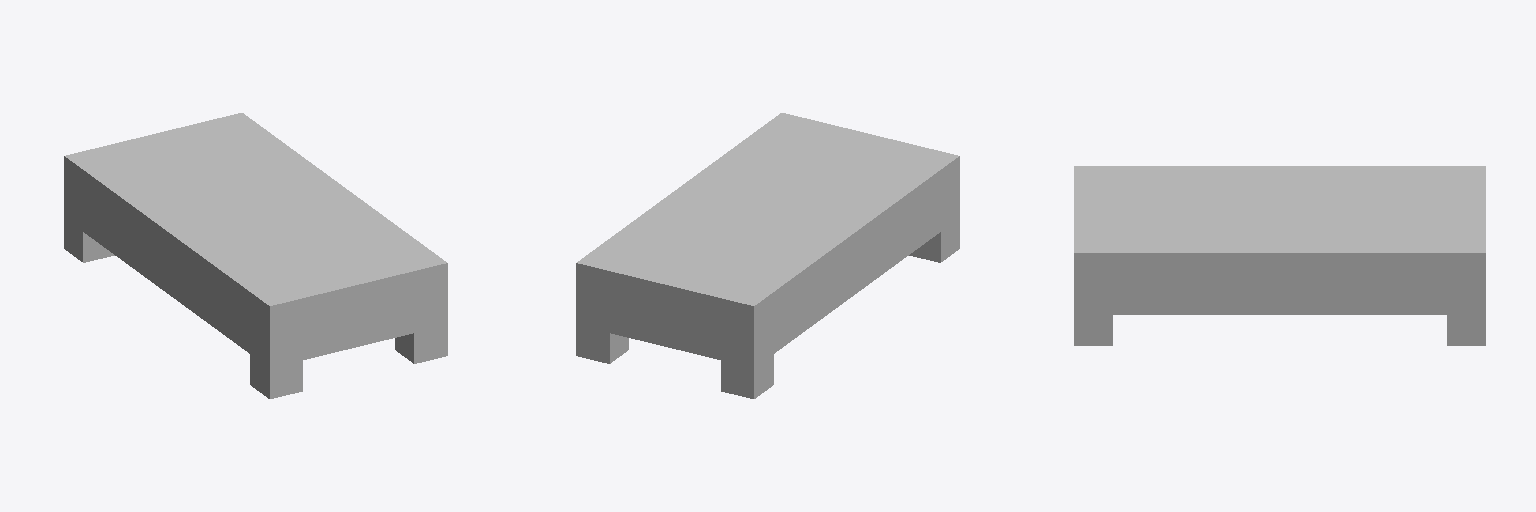
File: bed.obj
The picture shows the model from 3 angles: view 1: azimuth 30°, elevation 25°; view 2: azimuth 150°, elevation 25°; view 3: azimuth 270°, elevation 25°; orthographic projection.
Visible parts, largest first — view 1: Object_2; view 2: Object_2; view 3: Object_2.
Boxes of the visible parts, box(x1,y1,x2,y2) form: Object_2: box(64, 113, 447, 398); Object_2: box(576, 113, 959, 398); Object_2: box(1074, 166, 1485, 345).
Bounding box in the file's own units: 1 × 0.5 × 2.